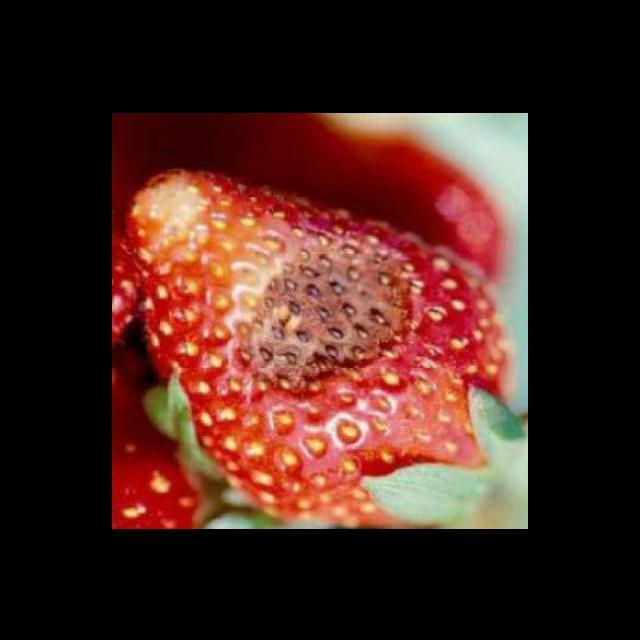Anthracnose Fruit Rot: (232, 223, 422, 407)
